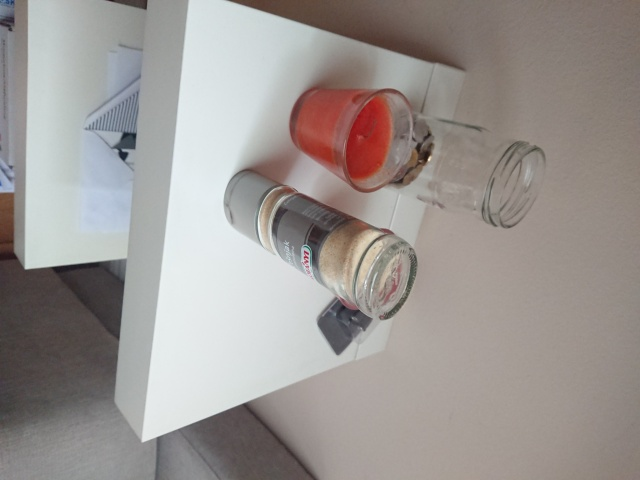Kotanyi Garlic Granules 70g: (220, 166, 420, 323)
